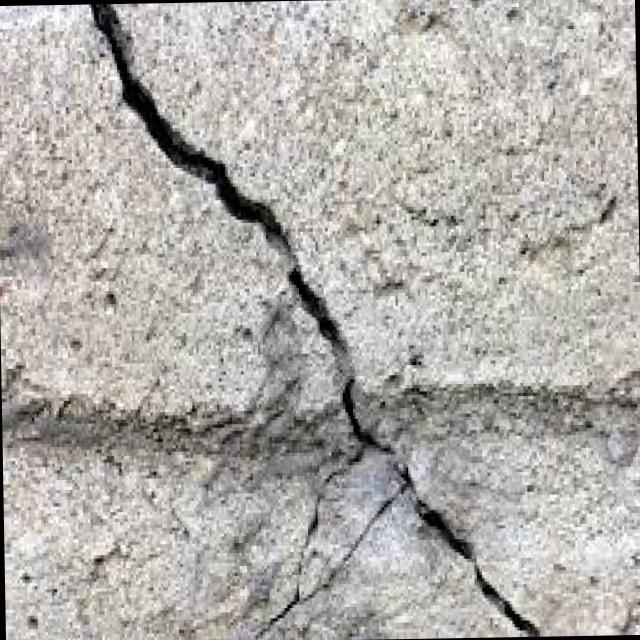crack: (86, 0, 542, 640), (252, 477, 410, 638), (294, 438, 371, 594)
